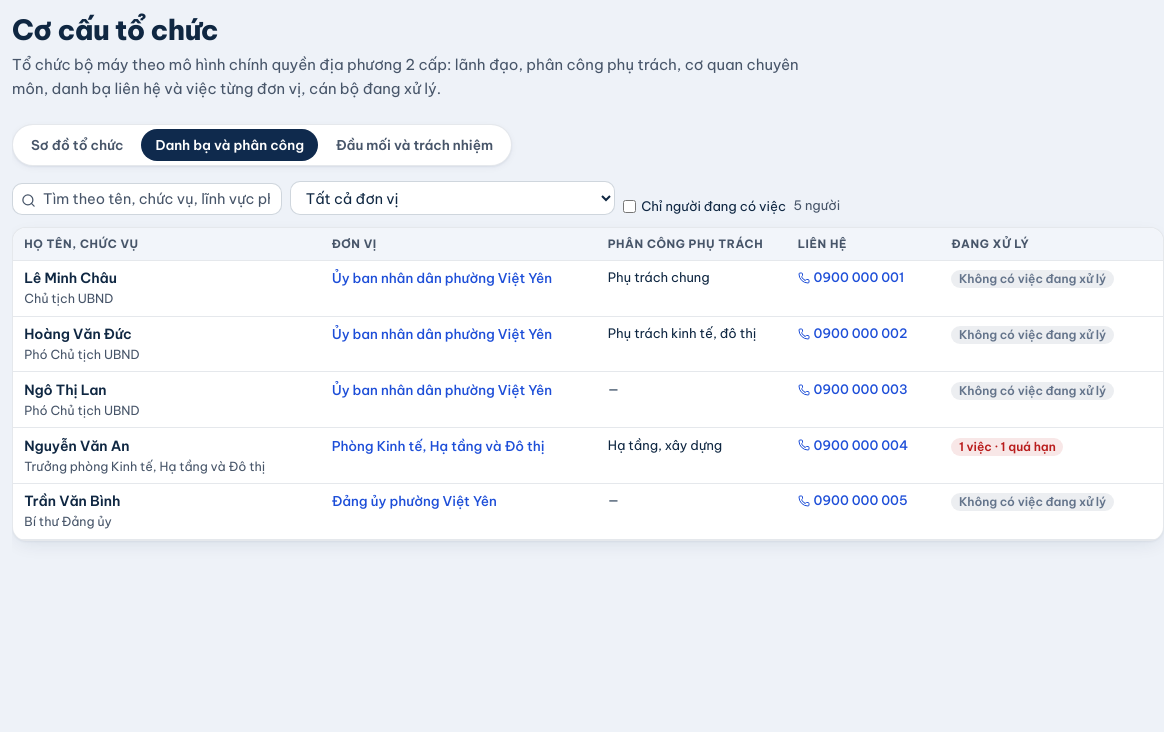
Cơ cấu tổ chức › danh bạ: tìm theo lĩnh vực phụ trách và lọc người đang có việc
Check: the number of rows is 6, box x1=13 y1=228 x2=1163 y2=260; x1=13 y1=260 x2=1163 y2=316; x1=13 y1=316 x2=1163 y2=372; x1=13 y1=372 x2=1163 y2=428; x1=13 y1=428 x2=1163 y2=483; x1=13 y1=483 x2=1163 y2=539
Type "kinh tế" into the field with placeholder "Tìm theo tên, chức vụ, lĩnh vực phụ trách" at [147, 199], box x1=12 y1=183 x2=282 y2=215
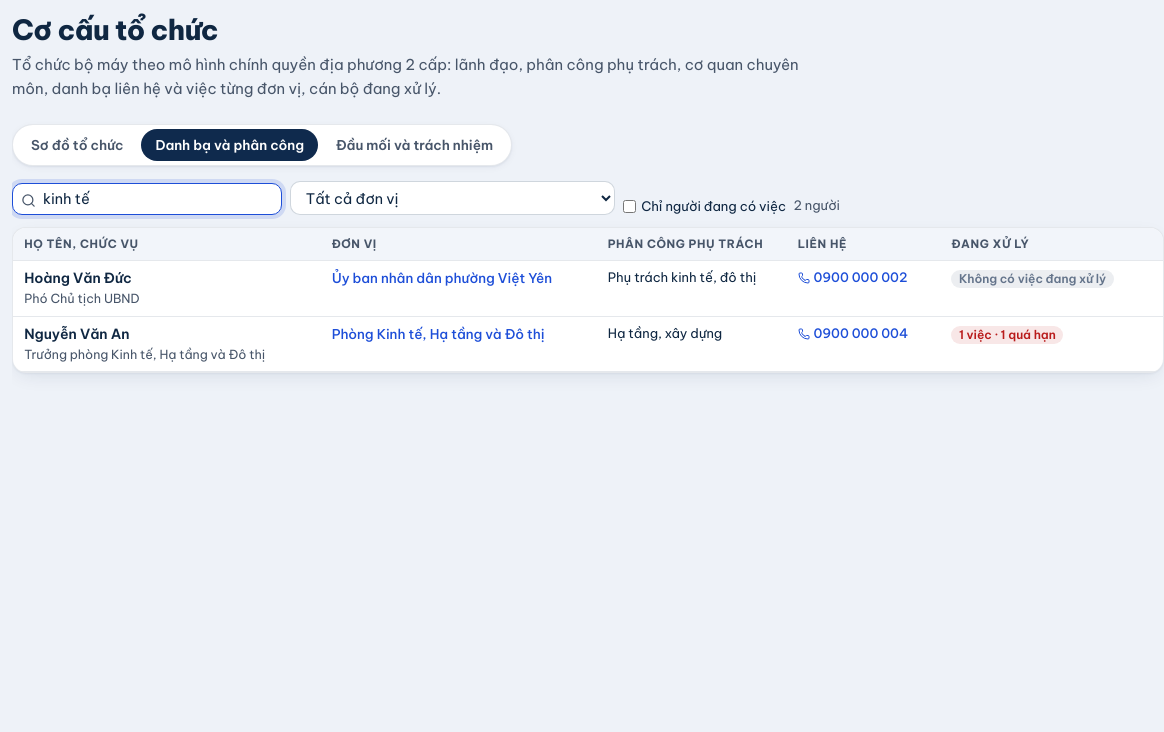
Clear the field with placeholder "Tìm theo tên, chức vụ, lĩnh vực phụ trách" at [147, 199], box x1=12 y1=183 x2=282 y2=215
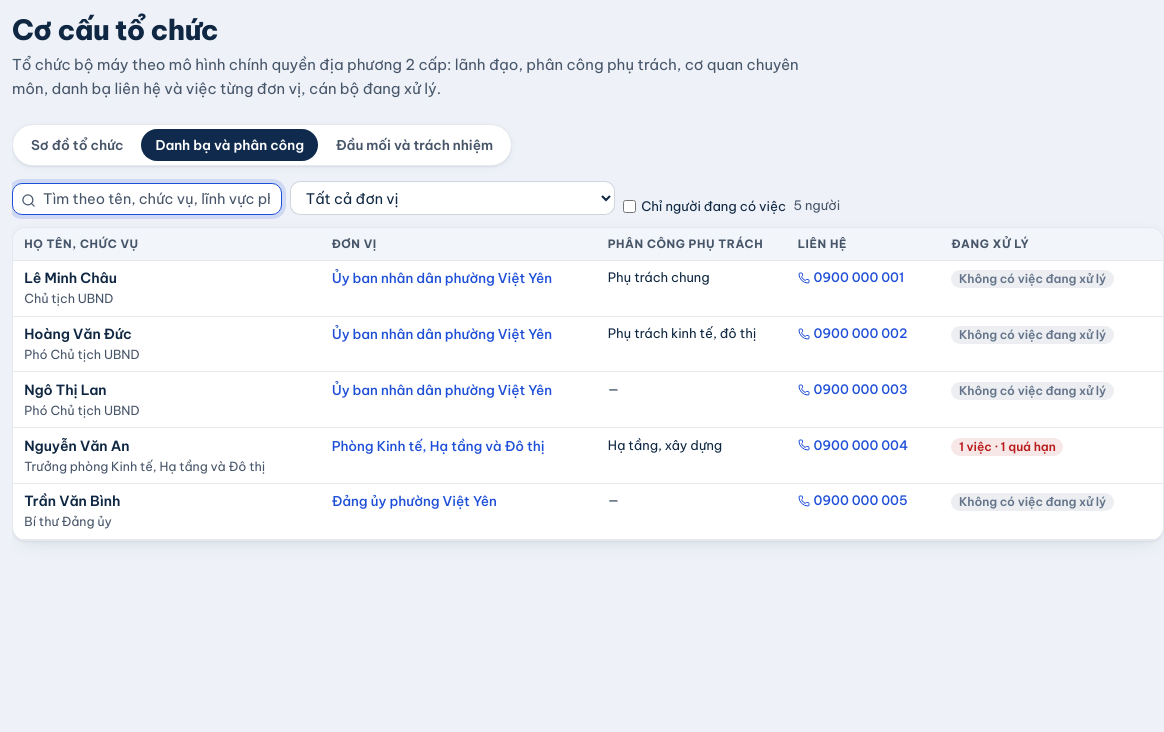
Click the checkbox labelled "Chỉ người đang có việc" at [629, 206], box x1=622 y1=200 x2=636 y2=212
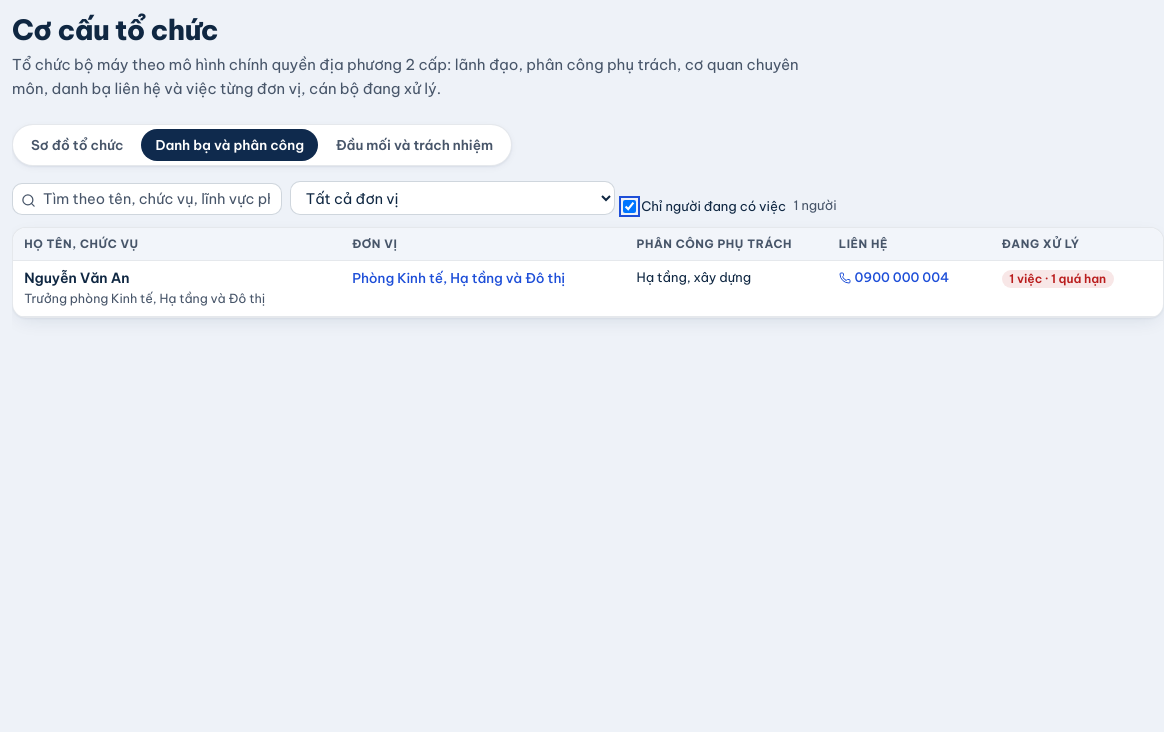
Check: the table named "Danh bạ và phân công" shows "Nguyễn Văn An", box x1=24 y1=269 x2=130 y2=287
Check: the number of rows is 2, box x1=13 y1=228 x2=1163 y2=260; x1=13 y1=260 x2=1163 y2=316
